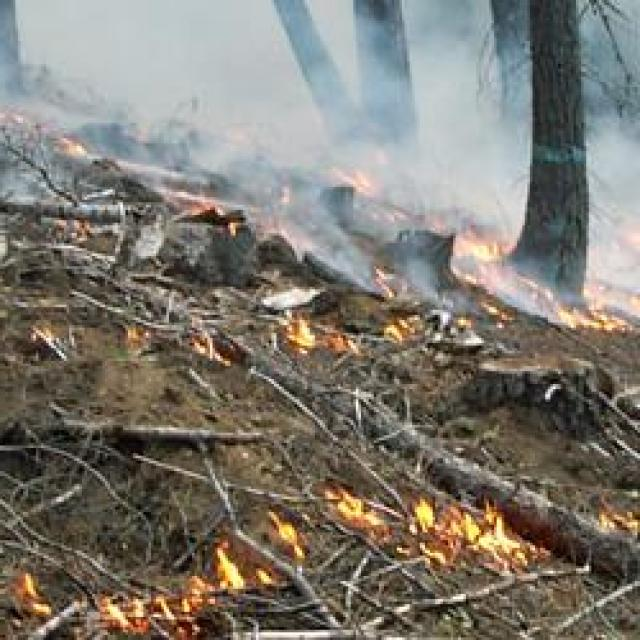smoke: (269, 28, 469, 198), (101, 112, 242, 200), (584, 120, 640, 312)
